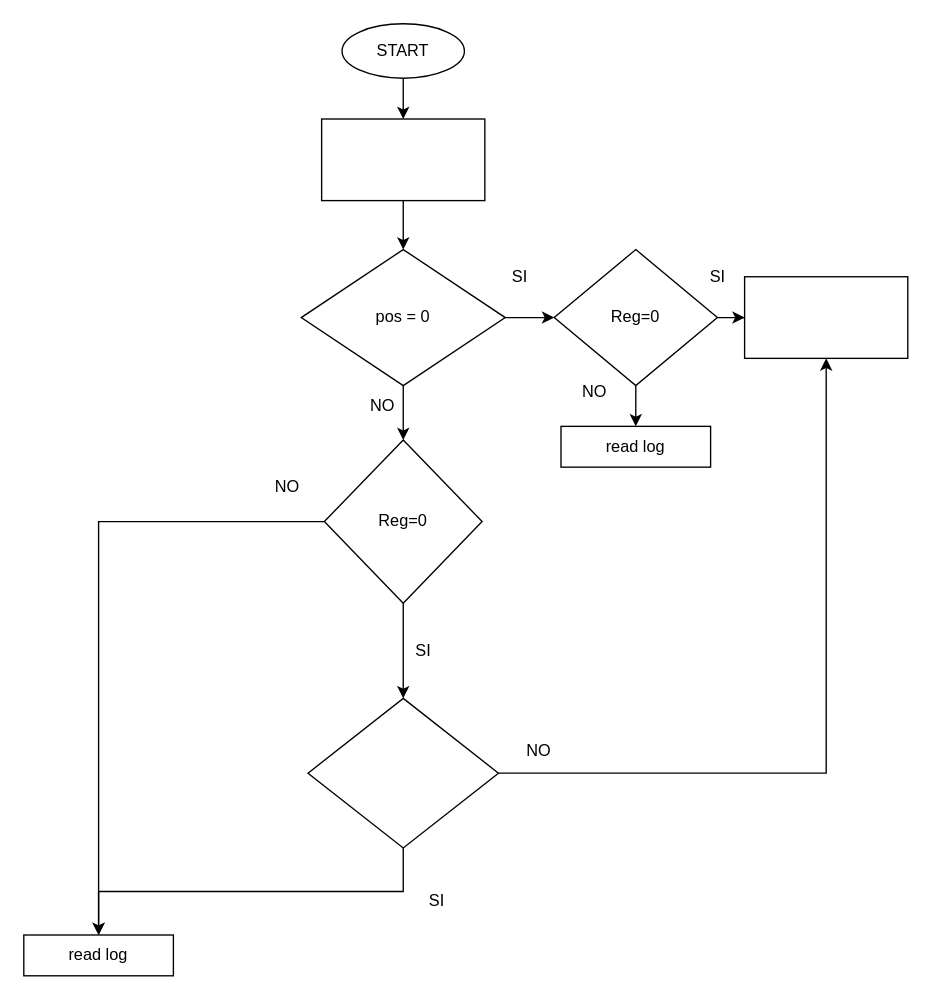
Image size: 932x1000. Some labels were removed from this diagram. The shapes that lost their labels are listed below. From the top down, each one's centre as x and y in pixels, then its label:
At (402,159): "input posToRead".
At (825,316): "return 0".
At (402,772): "posToRead<=pos".
